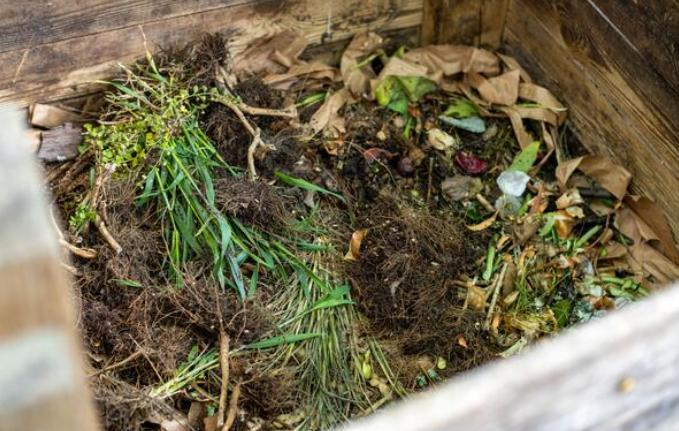organic: (464, 192, 645, 337), (76, 56, 212, 228), (185, 196, 345, 323), (239, 28, 364, 140), (458, 236, 527, 332), (96, 42, 187, 113), (62, 156, 123, 258), (479, 193, 557, 255), (576, 154, 632, 204), (34, 121, 85, 163), (84, 347, 152, 378), (341, 222, 392, 263), (551, 121, 580, 189), (215, 326, 232, 426), (480, 121, 518, 163), (352, 42, 398, 72), (465, 199, 507, 231), (440, 173, 478, 202), (453, 148, 489, 174), (512, 101, 567, 112)
